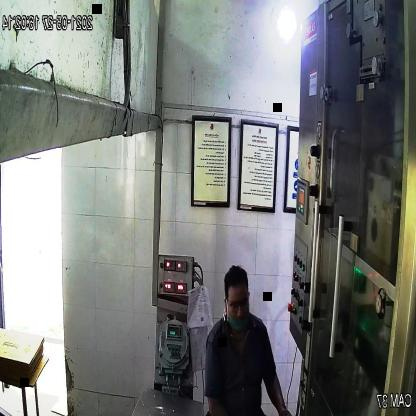goggles: (225, 291, 254, 316)
